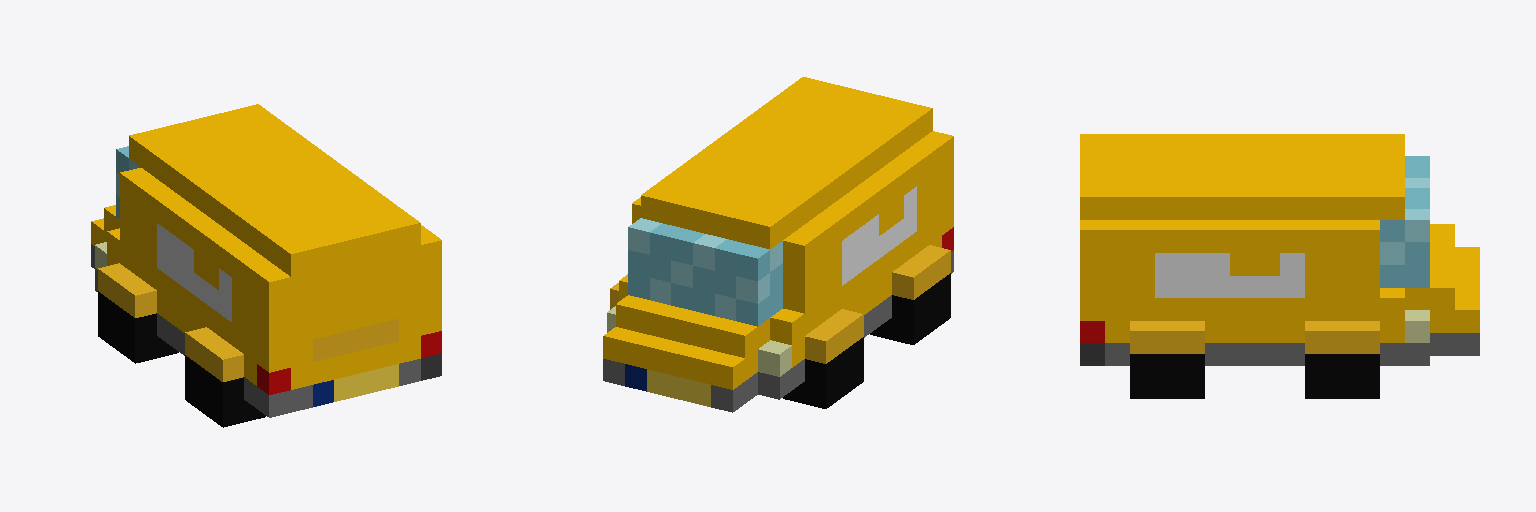
The picture shows the model from 3 angles: view 1: azimuth 30°, elevation 25°; view 2: azimuth 150°, elevation 25°; view 3: azimuth 270°, elevation 25°; orthographic projection.
Visible parts, largest first — view 1: object 1; view 2: object 1; view 3: object 1.
Boxes of the visible parts, box(x1,y1,x2,y2) form: object 1: box(91, 104, 441, 427); object 1: box(603, 77, 953, 412); object 1: box(1080, 134, 1479, 398).
Bounding box in the file's own units: 1 × 0.8 × 1.6.
1 materials, 1 textured.